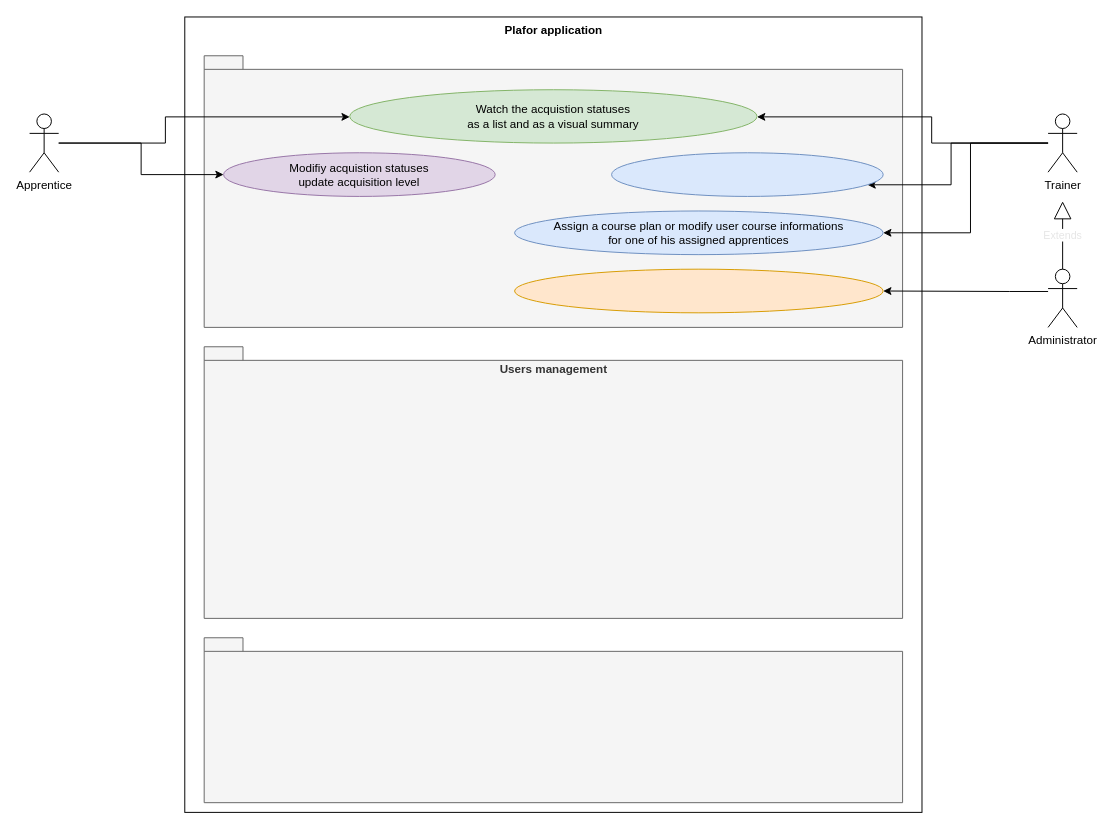
Some shapes in this 1114 by 829 pixel diagram are drawn without their labels. Here are the shapes that lost their labels. From the top down, the box of each, then its label:
(203, 55, 903, 327): User course management
(611, 152, 883, 196): Comment acquisition statuses
(514, 268, 883, 313): Assign a course plan or modify user course informations for any apprentice
(203, 637, 903, 803): Course plans management
